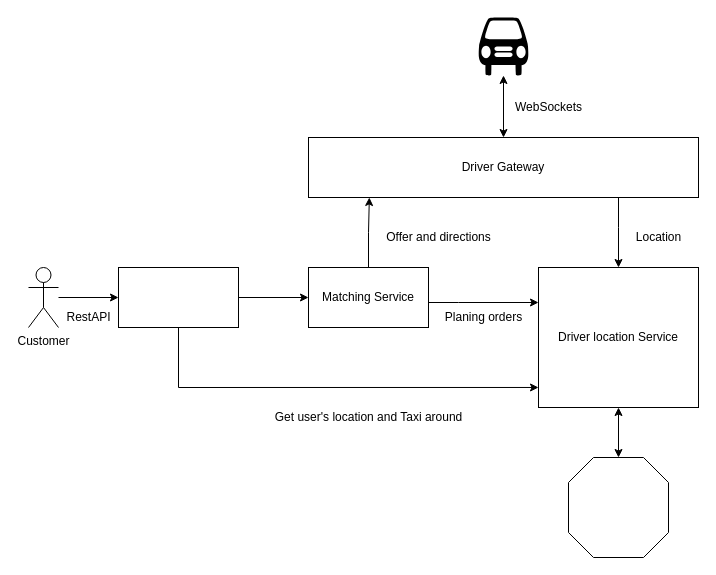
Image size: 716x575. Some labels were removed from this diagram. Each missing label, with the centre of its shape:
"Database" belongs at [618,507].
"Rider Gateway" belongs at [178,297].
